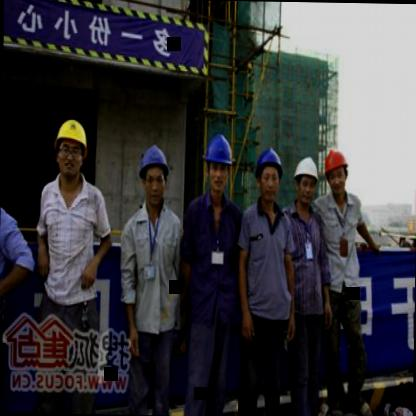helmet: (134, 137, 172, 213), (50, 112, 90, 184), (202, 126, 234, 200), (254, 140, 285, 204), (320, 144, 350, 198), (293, 154, 320, 204)
